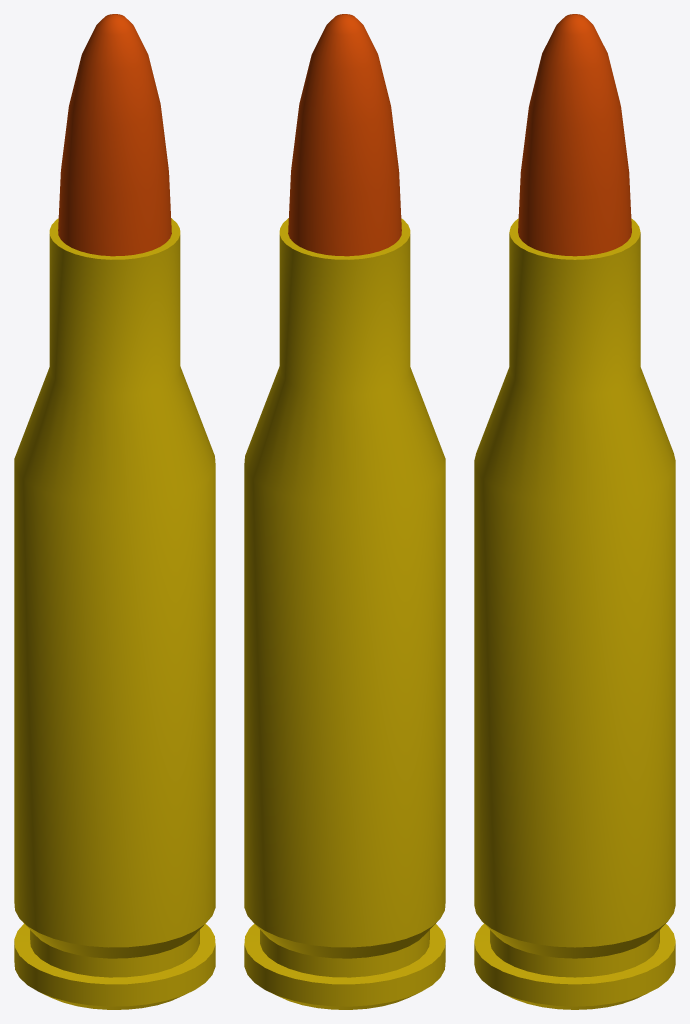
3 renders of one model, left to right at view 1: azimuth 30°, elevation 25°; view 2: azimuth 150°, elevation 25°; view 3: azimuth 270°, elevation 25°, orthographic.
Visible parts, largest first — view 1: Cylinder; view 2: Cylinder; view 3: Cylinder.
Boxes of the visible parts, bbox=[...] form: Cylinder: bbox=[14, 14, 215, 1009]; Cylinder: bbox=[244, 14, 445, 1009]; Cylinder: bbox=[474, 14, 675, 1009].
Size of the model in its own units: 1.12 by 5.88 by 1.12.
